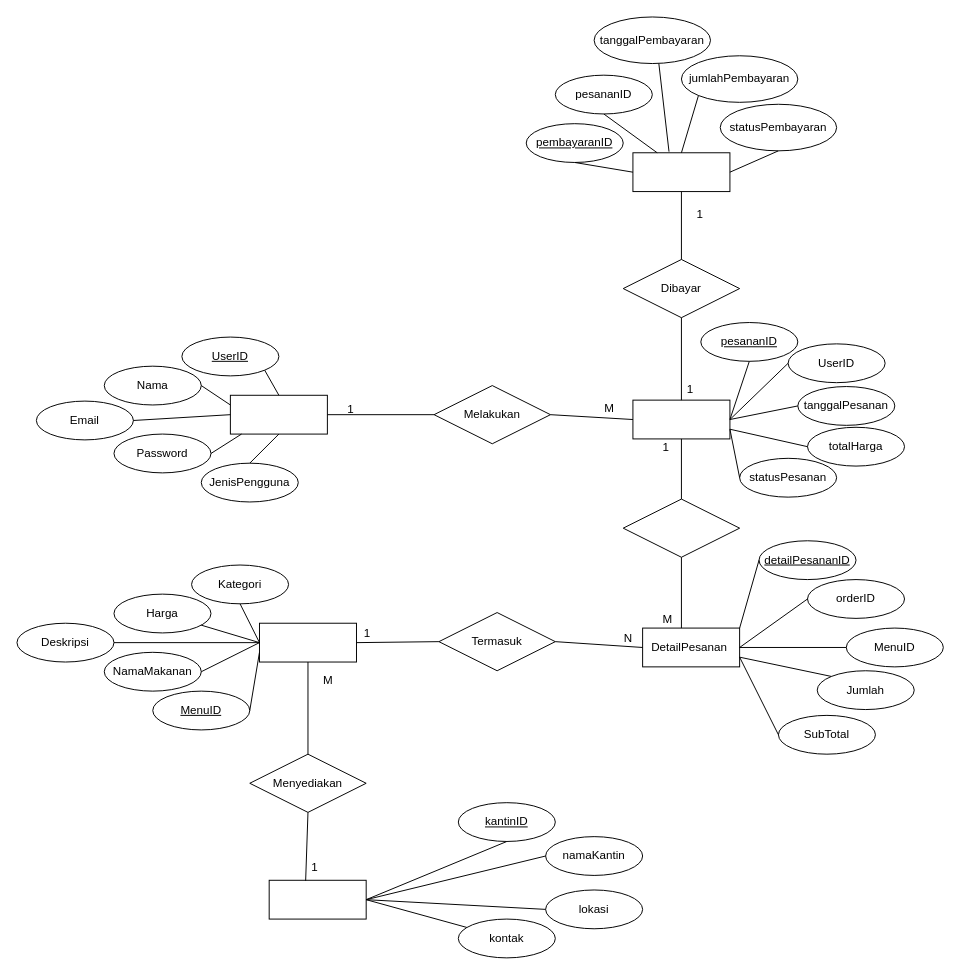
Image size: 960x975. Some labels were removed from this diagram. Here are the shapes that lost their labels. From the top down, the centre of each, then its label:
At point (681, 172): "Pembayaran".
At point (278, 414): "Pengguna".
At point (681, 419): "Pesanan".
At point (681, 527): "Memiliki".
At point (307, 642): "MenuMakanan".
At point (317, 899): "Kantin".
